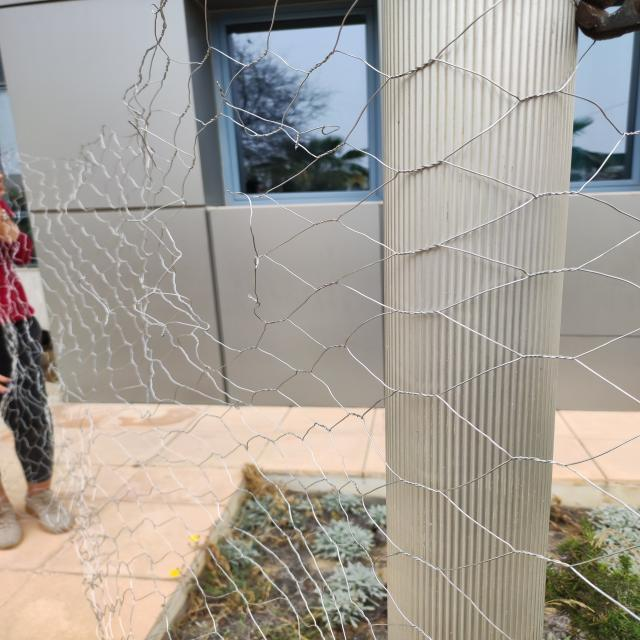fence line: (6, 21, 169, 179), (5, 469, 105, 632), (171, 213, 271, 326)
